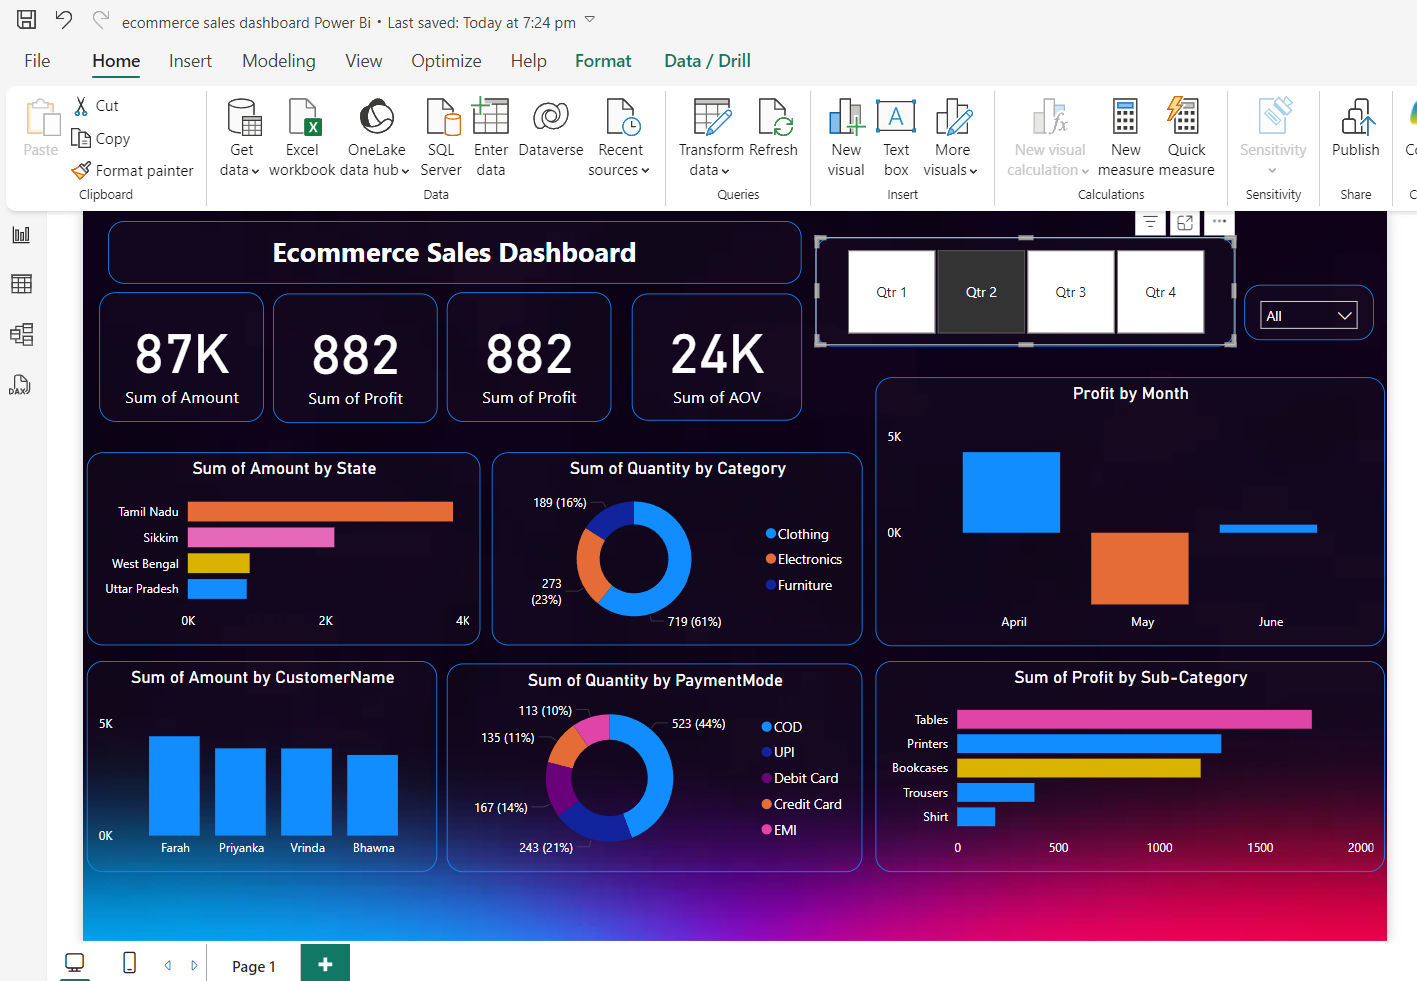

The page's visual inventory and layout, read from the dashboard file:
{"tool":"powerbi","page":{"name":"Page 1","canvas":[1280,720],"ordinal":0},"visuals":[{"type":"textbox","box":[24.7,10.3,680.4,61.9],"z":0},{"type":"columnChart","title":"Profit by Month","fields":{"Category":["Orders.Order Date.Variation.Date Hierarchy.Month"],"Y":["Sum(Details.Profit)"]},"box":[778.4,162.9,500,263.9],"z":1000},{"type":"barChart","fields":{"Category":["Details.Sub-Category"],"Y":["Sum(Details.Profit)"]},"box":[777.3,442.3,500,207.2],"z":2000},{"type":"donutChart","fields":{"Category":["Details.Category"],"Y":["Sum(Details.Quantity)"]},"box":[401,237.1,363.9,189.7],"z":3000},{"type":"donutChart","fields":{"Y":["Sum(Details.Quantity)"],"Category":["Details.PaymentMode"]},"box":[356.7,444.3,408.2,205.2],"z":4000},{"type":"card","fields":{"Values":["Sum(Details.Amount)"]},"box":[16.5,79.4,161.9,126.8],"z":5000},{"type":"card","fields":{"Values":["Sum(Details.Profit)"]},"box":[186.6,80.4,161.9,126.8],"z":6000},{"type":"card","fields":{"Values":["Sum(Details.Profit)"]},"box":[356.7,79.4,161.9,126.8],"z":7000},{"type":"card","fields":{"Values":["Sum(Details.AOV)"]},"box":[538.1,81.4,167,124.7],"z":8000},{"type":"barChart","fields":{"Category":["Orders.State"],"Y":["Sum(Details.Amount)"]},"box":[4.1,237.1,386.6,189.7],"z":9000},{"type":"columnChart","fields":{"Category":["Orders.CustomerName"],"Y":["Sum(Details.Amount)"]},"box":[4.1,442.3,344.3,207.2],"z":10000},{"type":"slicer","fields":{"Values":["Orders.Order Date.Variation.Date Hierarchy.Quarter"]},"box":[719.6,25.8,411.3,107.2],"z":11000},{"type":"slicer","fields":{"Values":["Orders.State"]},"box":[1140.2,72.2,126.8,54.6],"z":12000}]}

Visuals, with their boxes on the page's 1280x720 design canvas (x1, y1, x2, y2). These are canvas units, not pixel positions in the 1417x981 screenshot, which may show the page scaled, cropped or inside an application window:
textbox: pyautogui.locateOnScreen(25, 10, 705, 72)
"Profit by Month" columnChart: pyautogui.locateOnScreen(778, 163, 1278, 427)
barChart - Details.Sub-Category x Sum(Details.Profit): pyautogui.locateOnScreen(777, 442, 1277, 650)
donutChart - Details.Category x Sum(Details.Quantity): pyautogui.locateOnScreen(401, 237, 765, 427)
donutChart - Sum(Details.Quantity) x Details.PaymentMode: pyautogui.locateOnScreen(357, 444, 765, 650)
card - Sum(Details.Amount): pyautogui.locateOnScreen(16, 79, 178, 206)
card - Sum(Details.Profit): pyautogui.locateOnScreen(187, 80, 348, 207)
card - Sum(Details.Profit): pyautogui.locateOnScreen(357, 79, 519, 206)
card - Sum(Details.AOV): pyautogui.locateOnScreen(538, 81, 705, 206)
barChart - Orders.State x Sum(Details.Amount): pyautogui.locateOnScreen(4, 237, 391, 427)
columnChart - Orders.CustomerName x Sum(Details.Amount): pyautogui.locateOnScreen(4, 442, 348, 650)
slicer - Orders.Order Date.Variation.Date Hierarchy.Quarter: pyautogui.locateOnScreen(720, 26, 1131, 133)
slicer - Orders.State: pyautogui.locateOnScreen(1140, 72, 1267, 127)
